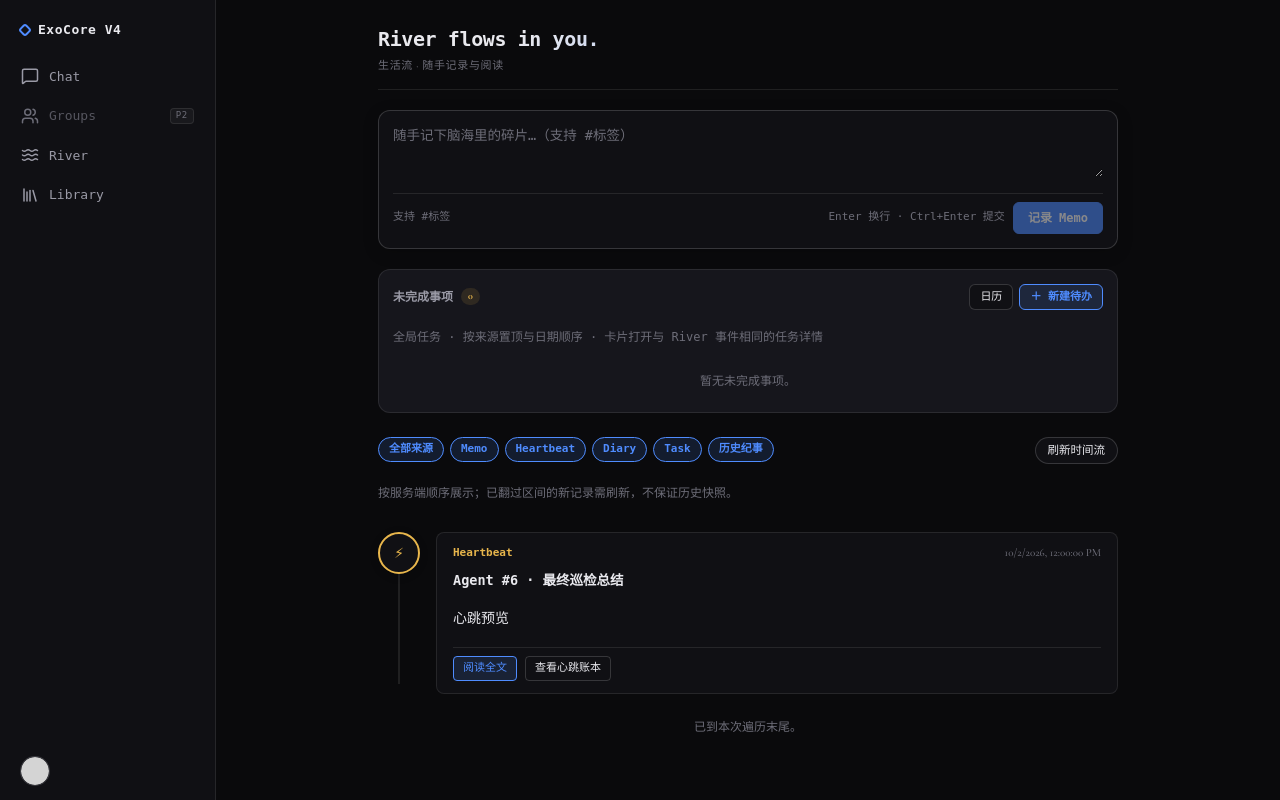
Test: Heartbeat Ledger ?session deep link (CP4) › River heartbeat card links with the real preset/session while 阅读全文 stays primary
Expected: the button "阅读全文" is shown, [453,656,517,681]
Click the link "查看心跳账本": (568, 668) [525,656,611,681]
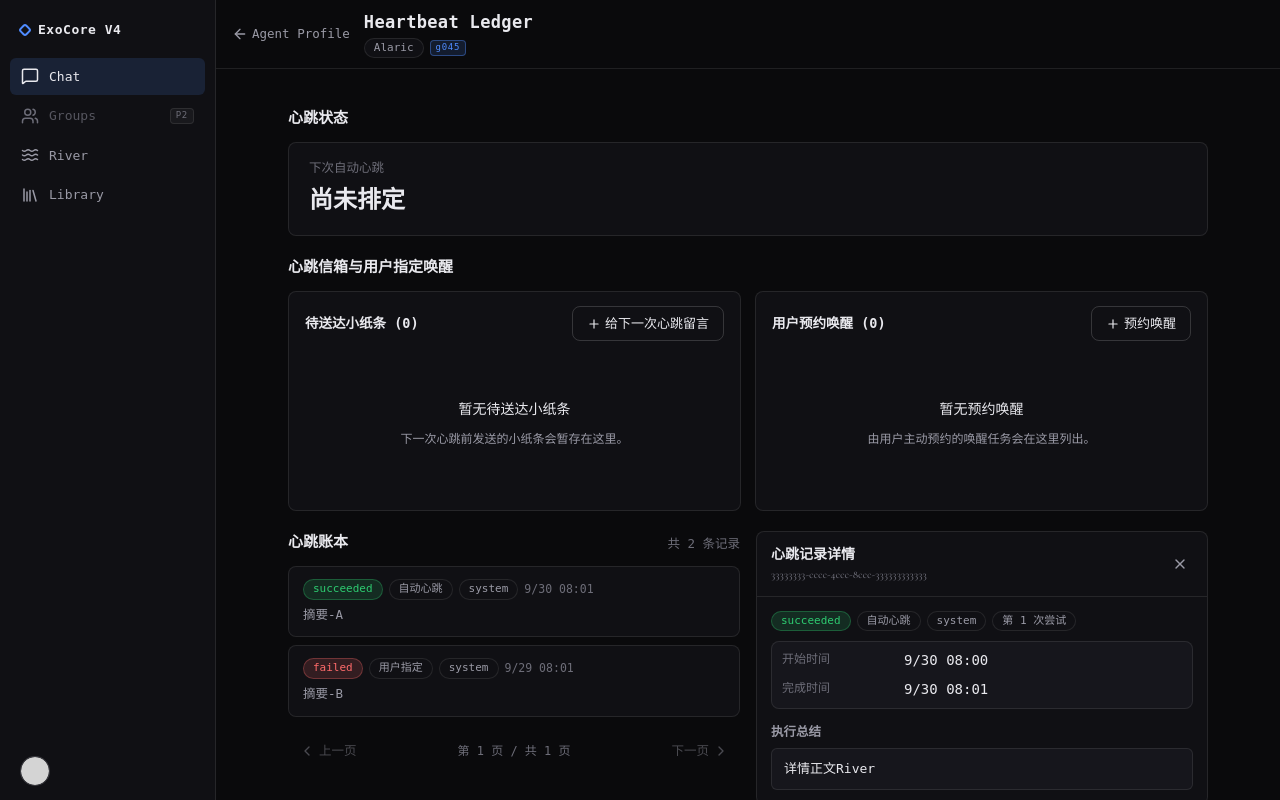
Expected: the text "详情正文River" is shown, [771,748,1193,790]
